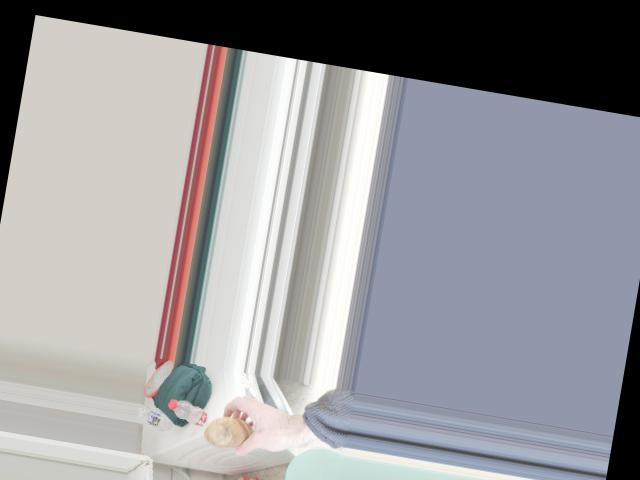sweet_potato: (199, 410, 258, 458)
